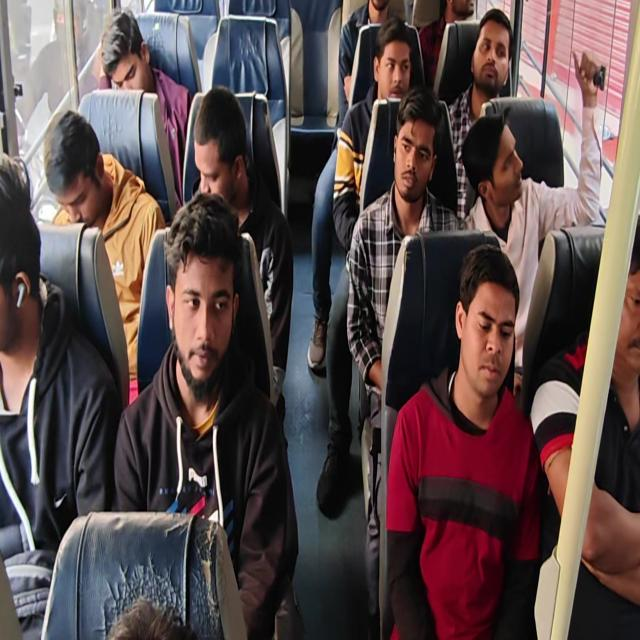person: (168, 211, 240, 397), (44, 106, 113, 229), (0, 152, 42, 352), (461, 262, 520, 404), (193, 111, 252, 217), (98, 17, 163, 106), (468, 133, 538, 209), (609, 233, 640, 373), (392, 111, 433, 201), (474, 21, 508, 98), (377, 42, 416, 104), (442, 0, 483, 35), (367, 0, 400, 25)
